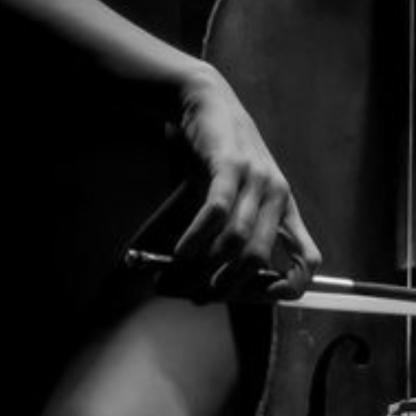good: (167, 113, 326, 308)
